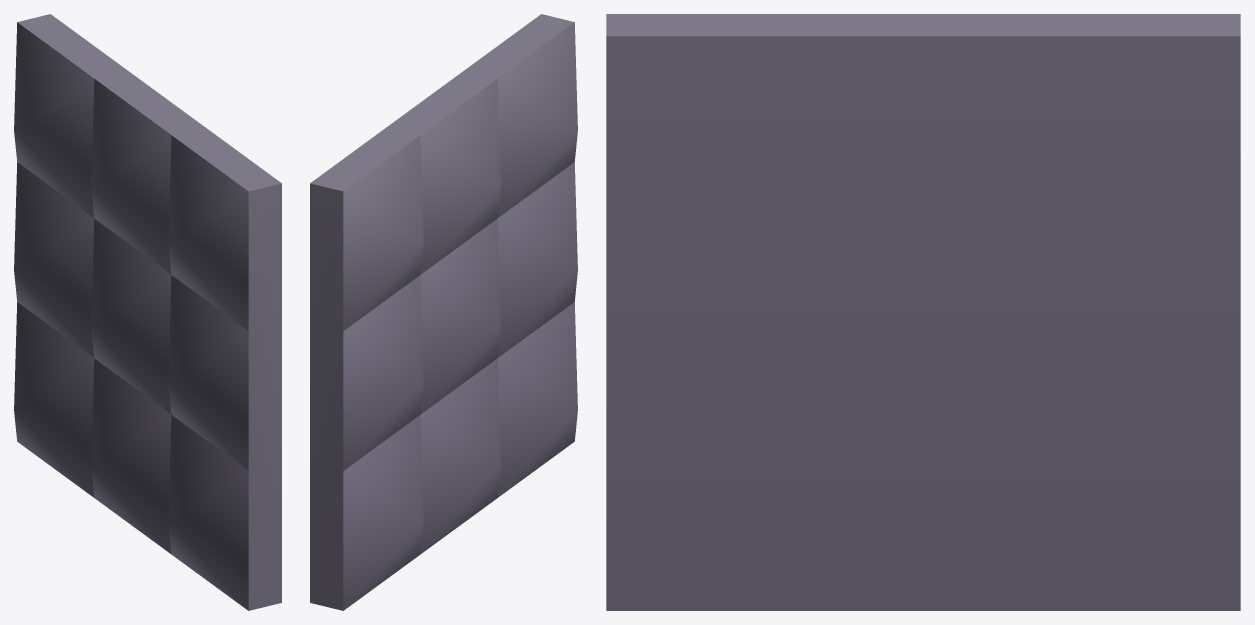
File: acoustic-foam-piramids-large (%wall).glb
3 views of the same model, side by side, from view 1: azimuth 30°, elevation 25°; view 2: azimuth 150°, elevation 25°; view 3: azimuth 270°, elevation 25° (orthographic). The views are drawn at different scales.
Parts seen in each view (by area): view 1: acoustic-foam-piramids-large (%wall); view 2: acoustic-foam-piramids-large (%wall); view 3: acoustic-foam-piramids-large (%wall).
Part boxes in pixels (bbox=[...]): acoustic-foam-piramids-large (%wall): bbox=[14, 14, 281, 610]; acoustic-foam-piramids-large (%wall): bbox=[310, 14, 577, 610]; acoustic-foam-piramids-large (%wall): bbox=[606, 14, 1240, 610].
Bounding box in the file's own units: 0.1125 × 0.6 × 0.6.
